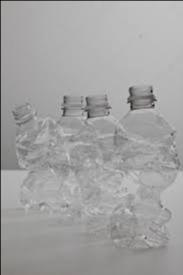Plastic: (71, 82, 133, 250), (120, 75, 176, 259), (9, 96, 75, 224), (48, 88, 101, 236)
